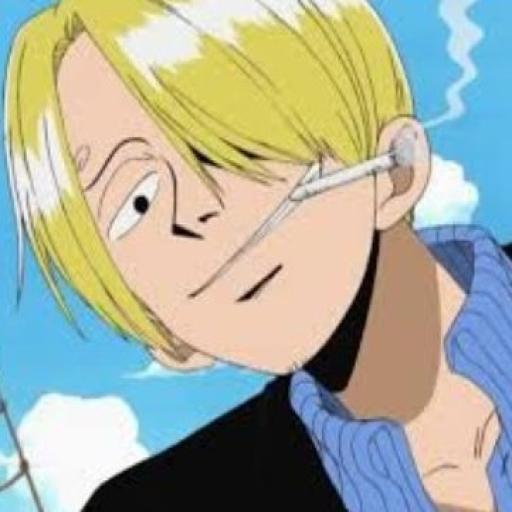sanji: (4, 6, 509, 512)
